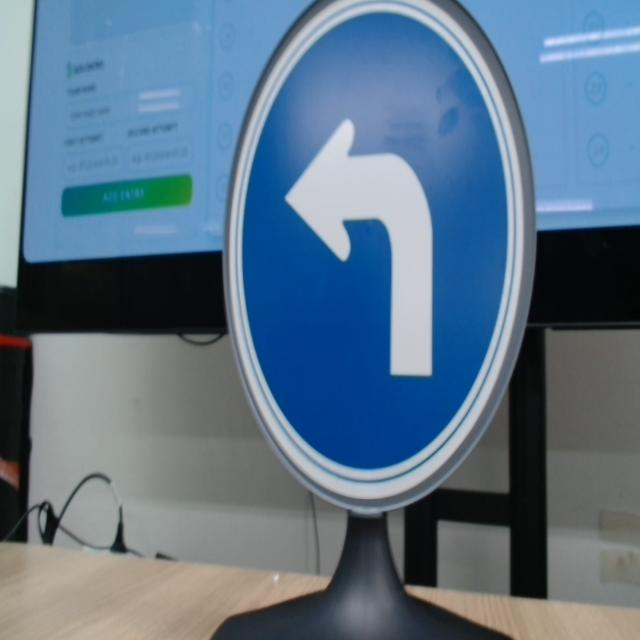left_direction: (214, 0, 543, 519)
